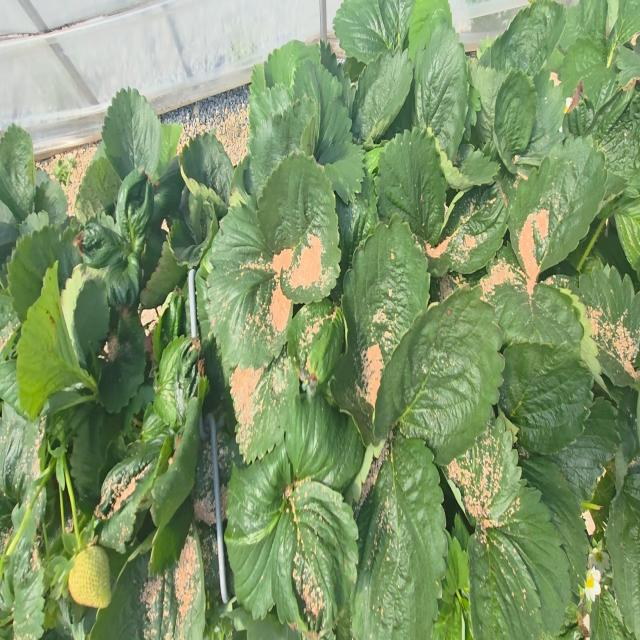Flowers: (584, 567, 601, 602)
Leaves: (374, 288, 504, 465), (331, 219, 429, 444), (351, 437, 446, 639), (205, 201, 292, 369), (508, 139, 608, 279), (94, 524, 205, 639), (273, 481, 358, 631), (16, 262, 96, 419), (487, 487, 569, 633), (225, 446, 290, 619), (499, 343, 593, 455), (521, 455, 589, 591), (567, 261, 640, 386), (480, 257, 582, 346), (376, 128, 448, 245), (257, 151, 338, 254), (445, 418, 521, 527), (468, 528, 542, 639), (285, 391, 365, 491), (414, 24, 469, 159), (230, 356, 299, 462), (427, 185, 507, 276), (95, 441, 160, 550), (550, 398, 620, 499), (245, 100, 315, 199), (480, 0, 565, 79), (152, 399, 201, 529), (605, 465, 640, 639), (295, 60, 352, 159), (352, 49, 412, 143), (69, 405, 120, 514), (102, 87, 161, 179), (7, 225, 61, 322), (98, 310, 146, 412), (61, 264, 109, 365), (2, 530, 44, 639), (494, 71, 537, 169), (521, 69, 565, 159), (334, 0, 395, 63), (181, 133, 234, 204), (287, 299, 339, 370), (432, 137, 499, 191), (76, 142, 122, 220), (0, 124, 35, 220), (153, 336, 189, 427), (140, 241, 187, 309), (318, 133, 364, 202), (116, 169, 154, 251), (309, 306, 346, 386), (263, 40, 320, 90), (216, 417, 243, 521), (471, 60, 505, 142), (408, 0, 452, 62), (193, 420, 216, 526), (249, 84, 294, 138), (561, 39, 605, 94), (77, 222, 129, 268), (443, 537, 469, 624), (171, 219, 218, 267), (105, 251, 142, 309), (590, 589, 630, 639), (34, 168, 68, 226), (378, 0, 413, 50), (584, 63, 616, 111), (611, 0, 640, 48), (158, 123, 183, 176)
Strawberries: (69, 545, 111, 609)
